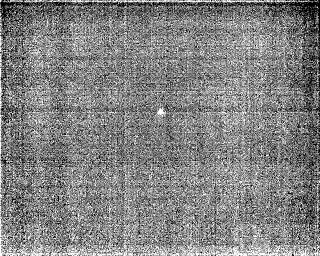BIRD: (154, 105, 169, 120)
